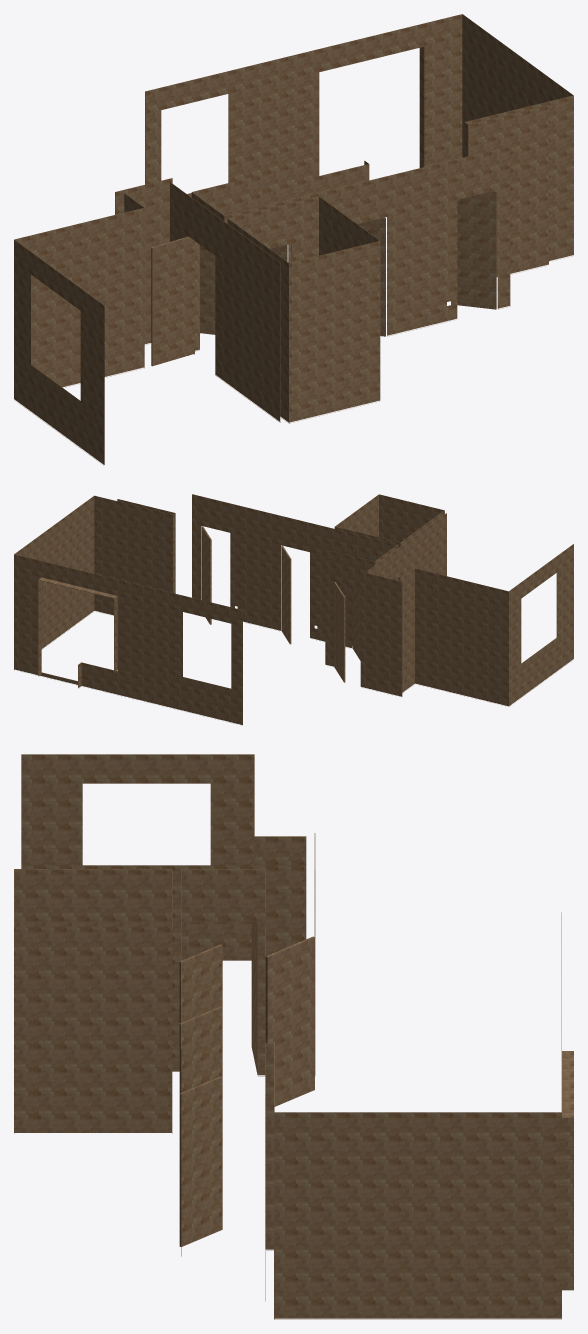
The model's file is ADSK__-.obj.
3 renders of one model, top to bottom at view 1: azimuth 30°, elevation 25°; view 2: azimuth 150°, elevation 25°; view 3: azimuth 270°, elevation 25°, orthographic. The views are drawn at different scales.
Size of the model in its own units: 10 by 2.7 by 6.61.
1 material, 1 textured.
